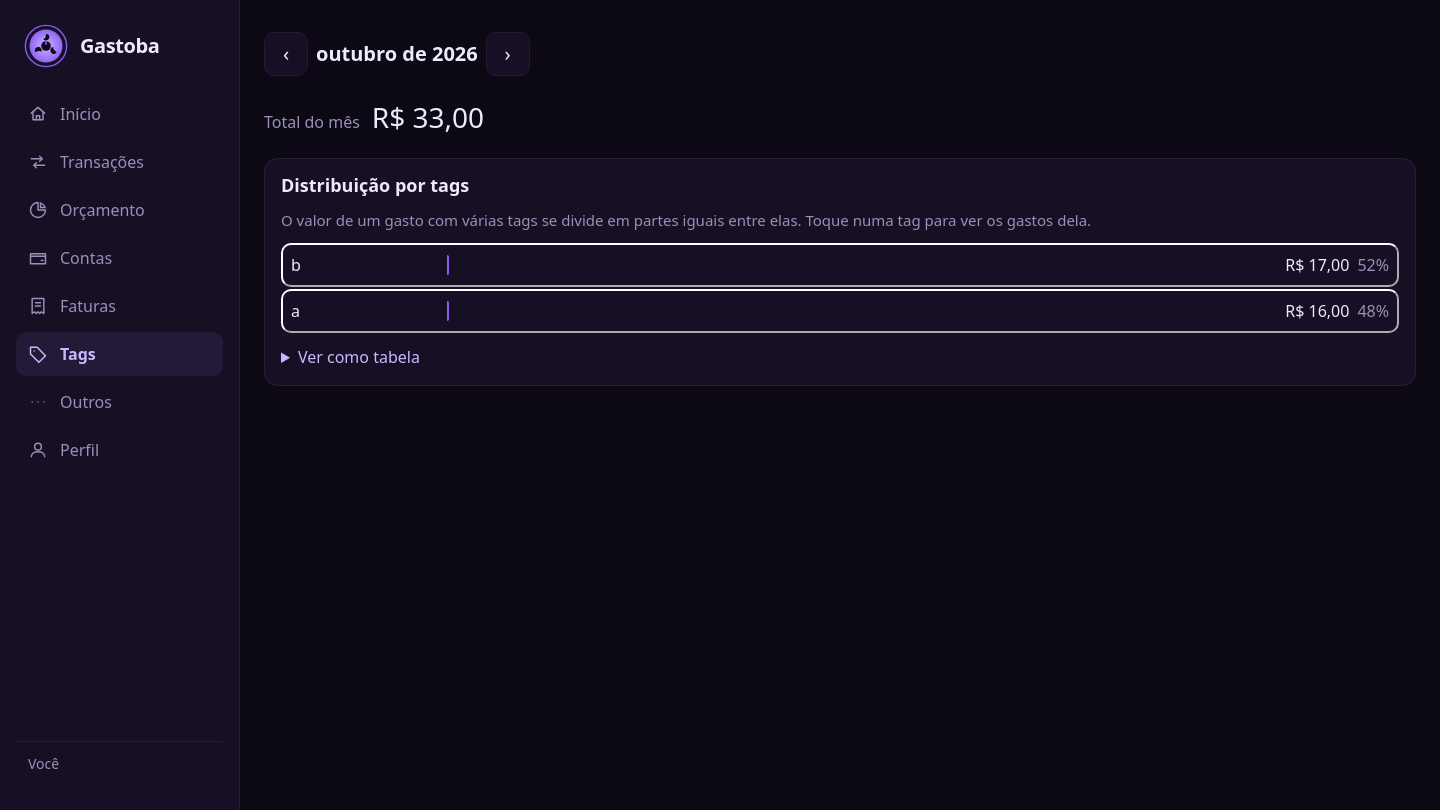
Scenario: Tags › clicar numa barra abre o painel com os gastos da tag e o total
The image size is (1440, 810).
Click the button "a R$ 16,00 48%": coordinates (1317, 311) [281,289,1399,333]
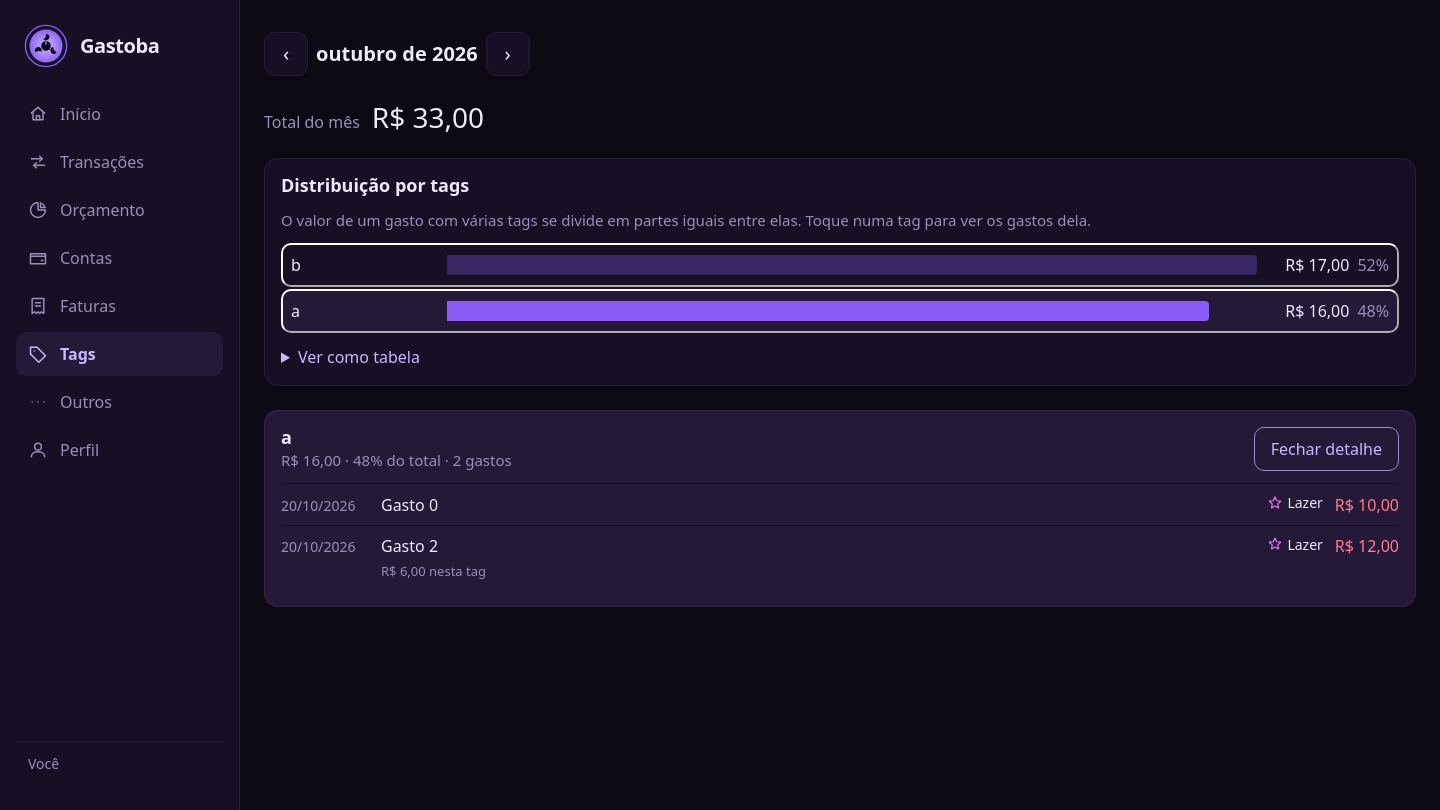
Now the element "a" shows "Gasto 0", box [381,494,438,516]
Now the element "a" shows "Gasto 2", box [381,535,438,557]
